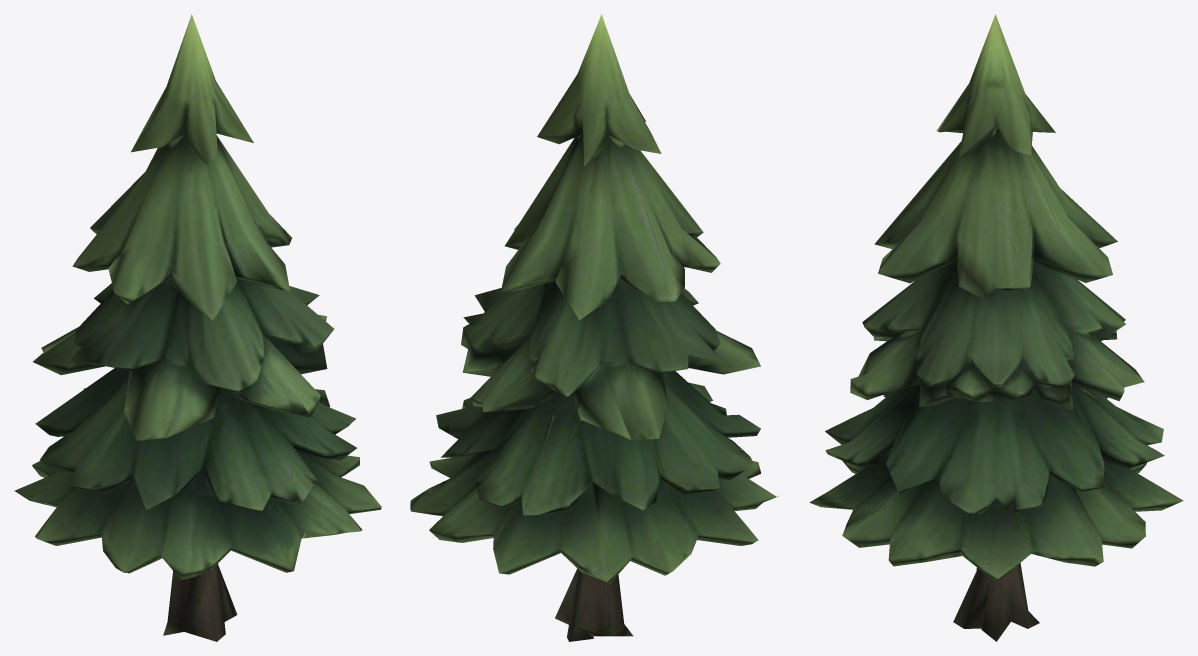
Rendered from arbre2-semis.glb.
The picture shows the model from 3 angles, left to right: view 1: azimuth 30°, elevation 25°; view 2: azimuth 150°, elevation 25°; view 3: azimuth 270°, elevation 25°; orthographic projection.
Visible parts, largest first — view 1: arbre2-b-semis; view 2: arbre2-b-semis; view 3: arbre2-b-semis.
Part boxes in pixels (bbox=[...]): arbre2-b-semis: bbox=[14, 14, 381, 641]; arbre2-b-semis: bbox=[410, 14, 777, 641]; arbre2-b-semis: bbox=[809, 14, 1183, 641].
Size of the model in its own units: 1.11 by 2 by 1.12.
1 material, 1 textured.
